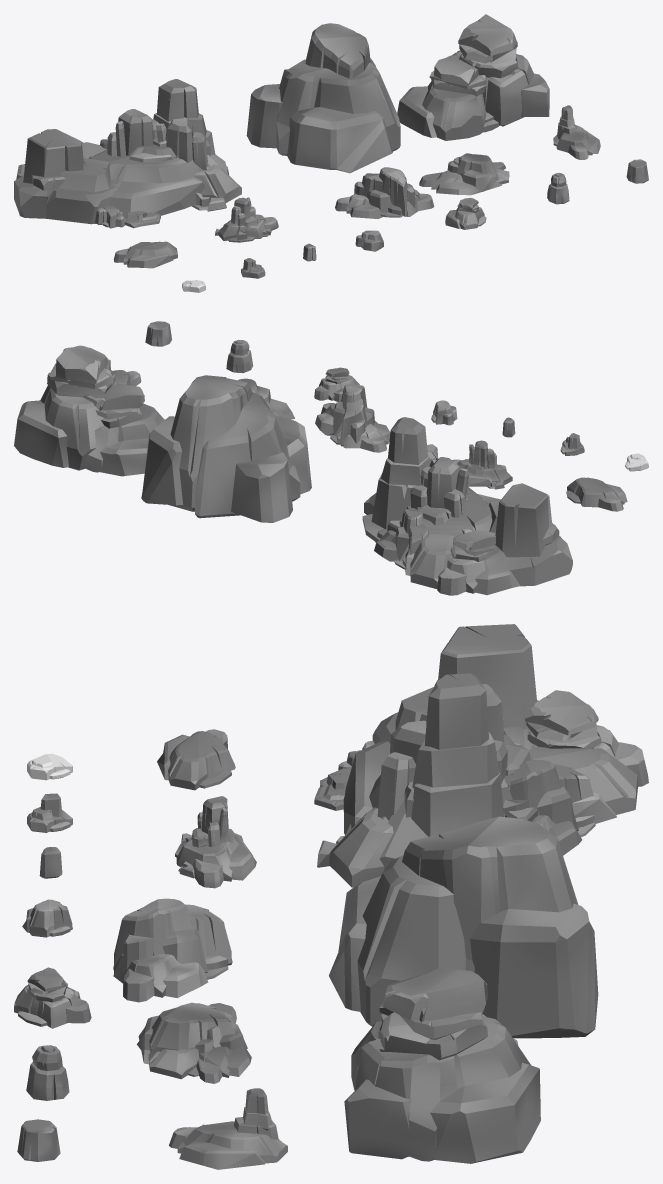
File: Rocks.fbx
The picture shows the model from 3 angles, top to bottom: view 1: azimuth 30°, elevation 25°; view 2: azimuth 150°, elevation 25°; view 3: azimuth 270°, elevation 25°; orthographic projection. The views are drawn at different scales.
Visible parts, largest first — view 1: rock.013, rock.009, rock.015, rock.008, rock.010, rock.006, rock.014, rock.005, rock.017, rock.016, rock.007, rock.011; view 2: rock.013, rock.009, rock.015, rock.008, rock.006, rock.005, rock.017, rock.016, rock.010, rock.011, rock.007, rock.014 (+1 smaller); view 3: rock.013, rock.009, rock.015, rock.008, rock.010, rock.014, rock.006, rock.005, rock.017, rock.016, rock.011, rock.007 (+2 smaller).
Boxes of the visible parts, x1,y1,x2,y2 form: rock.013: [14, 79, 241, 228]; rock.009: [246, 23, 400, 173]; rock.015: [397, 14, 549, 140]; rock.008: [335, 167, 434, 218]; rock.010: [419, 153, 509, 195]; rock.006: [215, 197, 278, 242]; rock.014: [553, 105, 600, 159]; rock.005: [113, 241, 177, 268]; rock.017: [445, 197, 486, 229]; rock.016: [547, 172, 569, 204]; rock.007: [355, 230, 383, 251]; rock.011: [626, 159, 648, 183]; rock.013: [362, 417, 572, 595]; rock.009: [141, 375, 311, 522]; rock.015: [14, 345, 164, 476]; rock.008: [315, 384, 390, 452]; rock.006: [452, 440, 512, 489]; rock.005: [566, 477, 627, 511]; rock.017: [314, 367, 359, 401]; rock.016: [226, 339, 253, 373]; rock.010: [238, 378, 294, 419]; rock.011: [145, 321, 171, 346]; rock.007: [431, 400, 457, 425]; rock.014: [105, 359, 141, 386]; rock.013: [314, 624, 648, 887]; rock.009: [329, 816, 598, 1038]; rock.015: [344, 968, 540, 1163]; rock.008: [113, 898, 232, 1002]; rock.010: [137, 1002, 251, 1083]; rock.014: [169, 1088, 287, 1169]; rock.006: [175, 796, 256, 888]; rock.005: [157, 729, 235, 790]; rock.017: [14, 967, 91, 1028]; rock.016: [26, 1045, 69, 1100]; rock.011: [17, 1119, 60, 1161]; rock.007: [22, 899, 72, 937].
Size of the model in its own units: 6689 by 1283 by 4000.
Materials: 1 (1 with a texture image).
